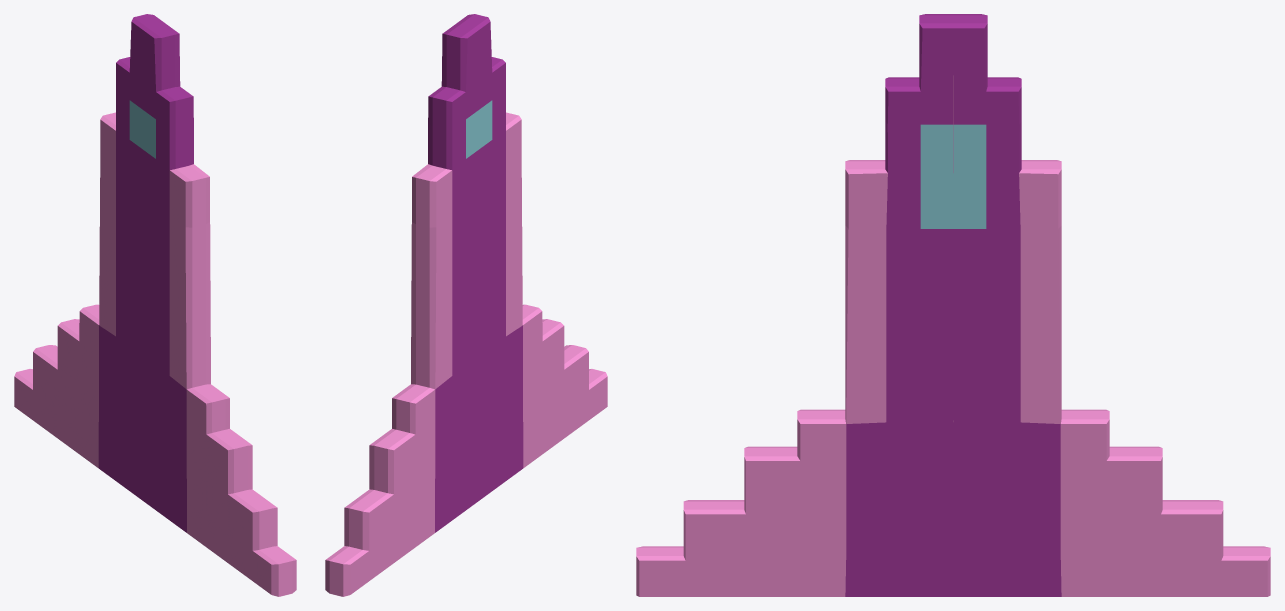
File: Alba_modelo nave 3.fbx
3 views of the same model, side by side, from view 1: azimuth 30°, elevation 25°; view 2: azimuth 150°, elevation 25°; view 3: azimuth 270°, elevation 25° (orthographic). The views are drawn at different scales.
Parts seen in each view (by area): view 1: nave buena 3; view 2: nave buena 3; view 3: nave buena 3.
Boxes of the visible parts, x1,y1,x2,y2 form: nave buena 3: (14, 14, 296, 596); nave buena 3: (325, 14, 607, 596); nave buena 3: (636, 14, 1270, 596).
Size of the model in its own units: 22.53 by 428 by 430.
